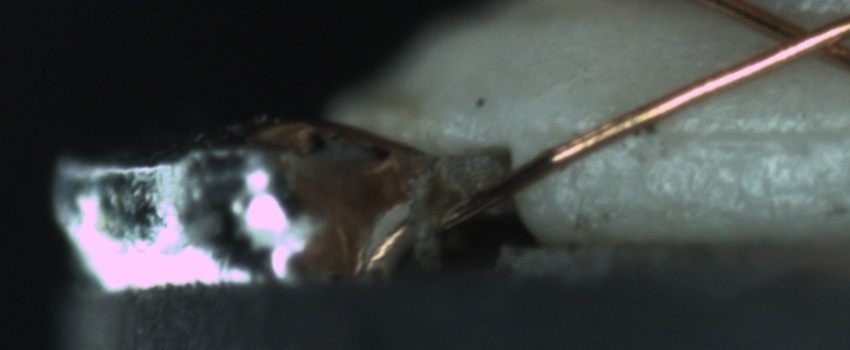CL: (750, 7, 849, 68)
DL: (608, 98, 846, 165)
